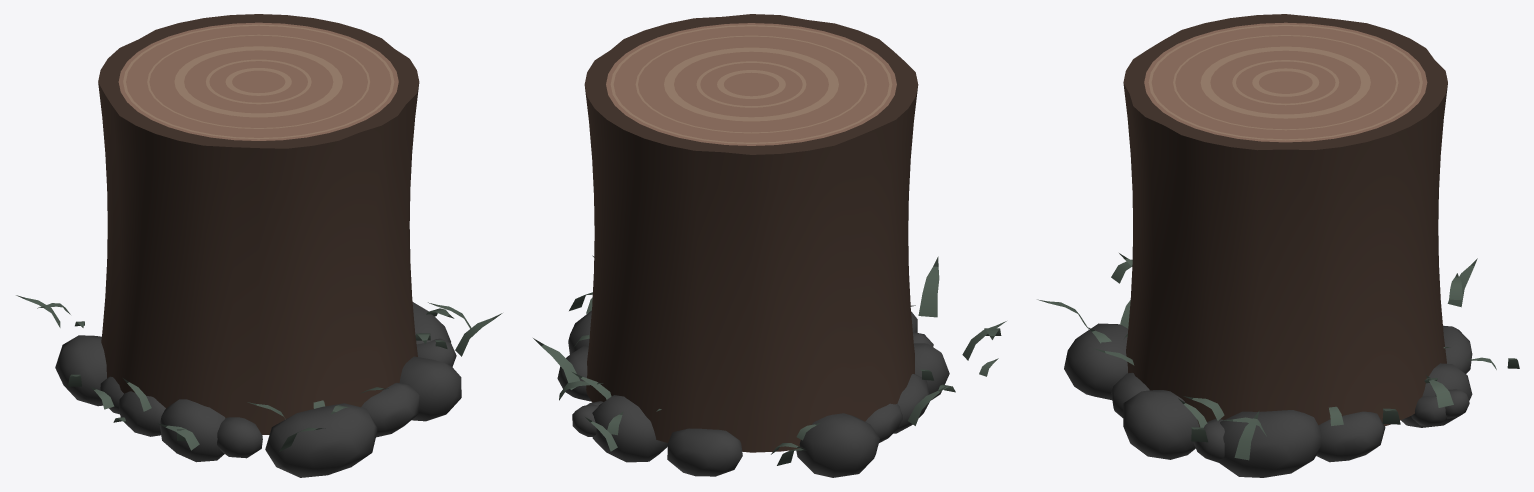
File: stump.fbx
The picture shows the model from 3 angles, left to right: view 1: azimuth 30°, elevation 25°; view 2: azimuth 150°, elevation 25°; view 3: azimuth 270°, elevation 25°; orthographic projection. The views are drawn at different scales.
Visible parts, largest first — view 1: stump; view 2: stump; view 3: stump.
Part boxes in pixels (box(x1,y1,x2,y2)): stump: box(16, 14, 502, 477); stump: box(533, 14, 1006, 477); stump: box(1037, 14, 1519, 477).
Bounding box in the file's own units: 92 × 73.12 × 98.92.
